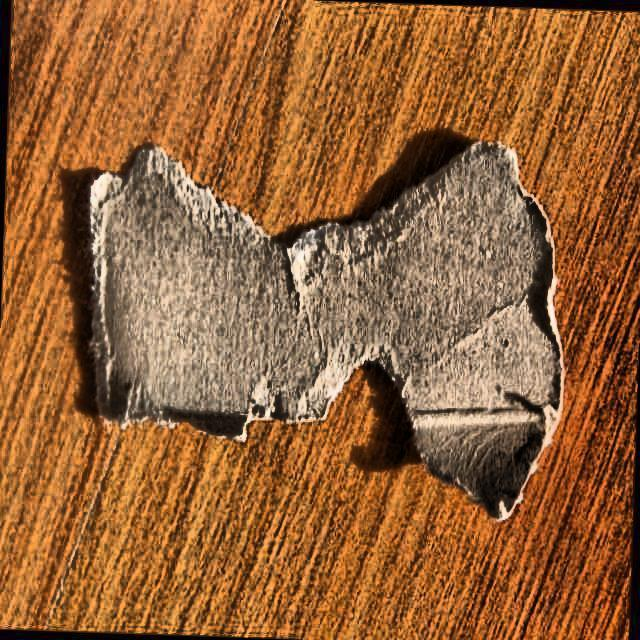cardboard: (64, 131, 567, 524)
